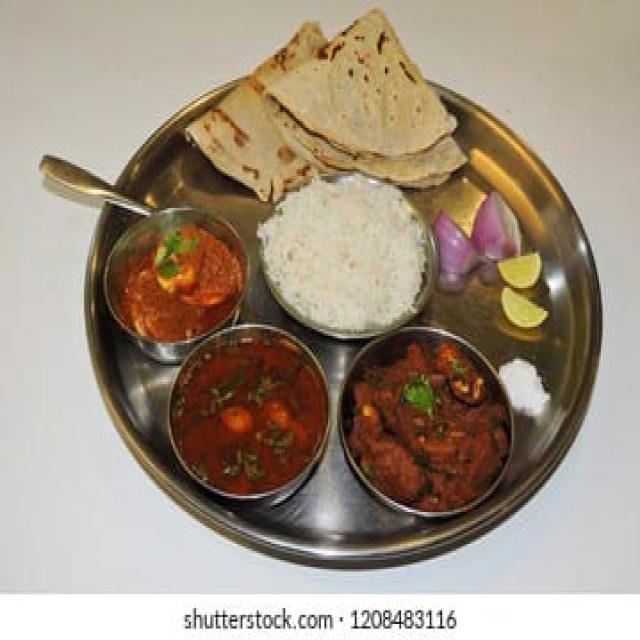non veg meals: (71, 0, 592, 558)
